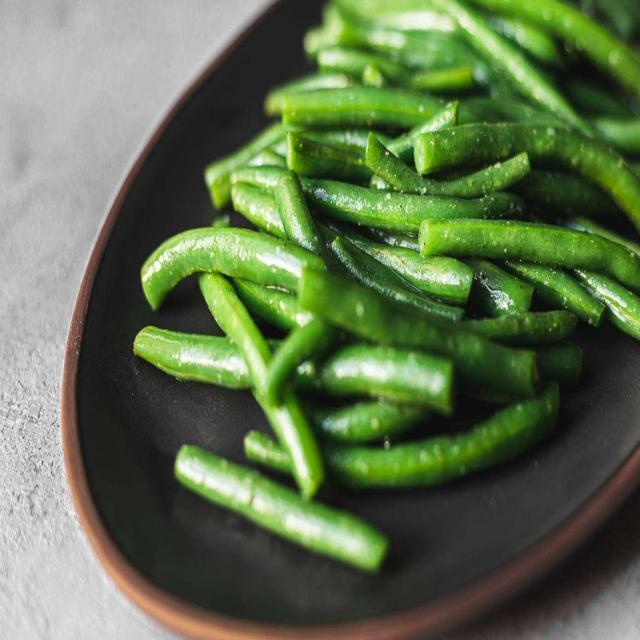Beans: (128, 0, 639, 568)
